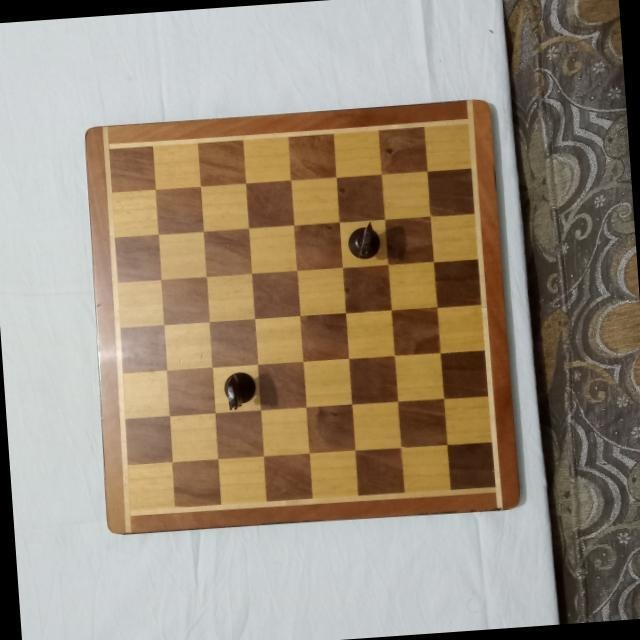black-knight: (221, 367, 259, 409), (344, 220, 383, 260)
